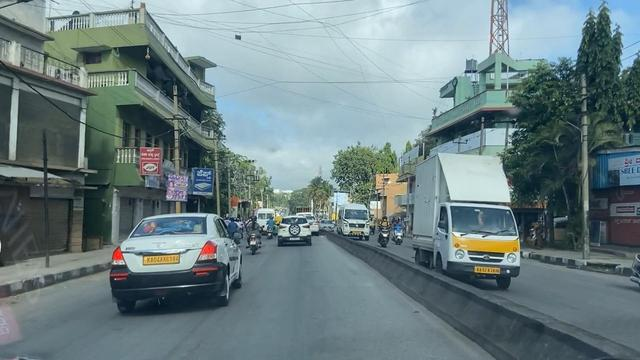LMV: (111, 217, 243, 309), (278, 217, 312, 246), (249, 215, 262, 255)
